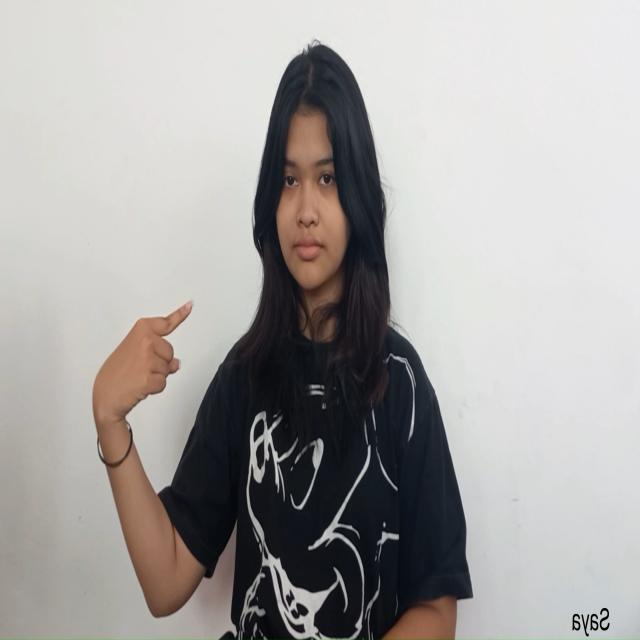Saya -BISINDO-: (90, 292, 196, 455)
